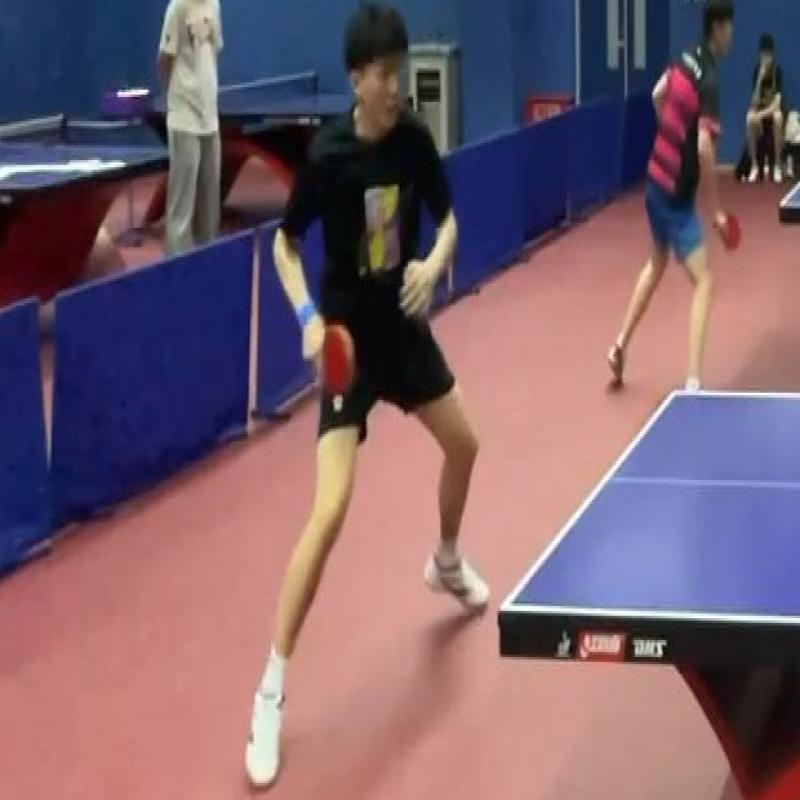bats: (300, 305, 362, 417)
